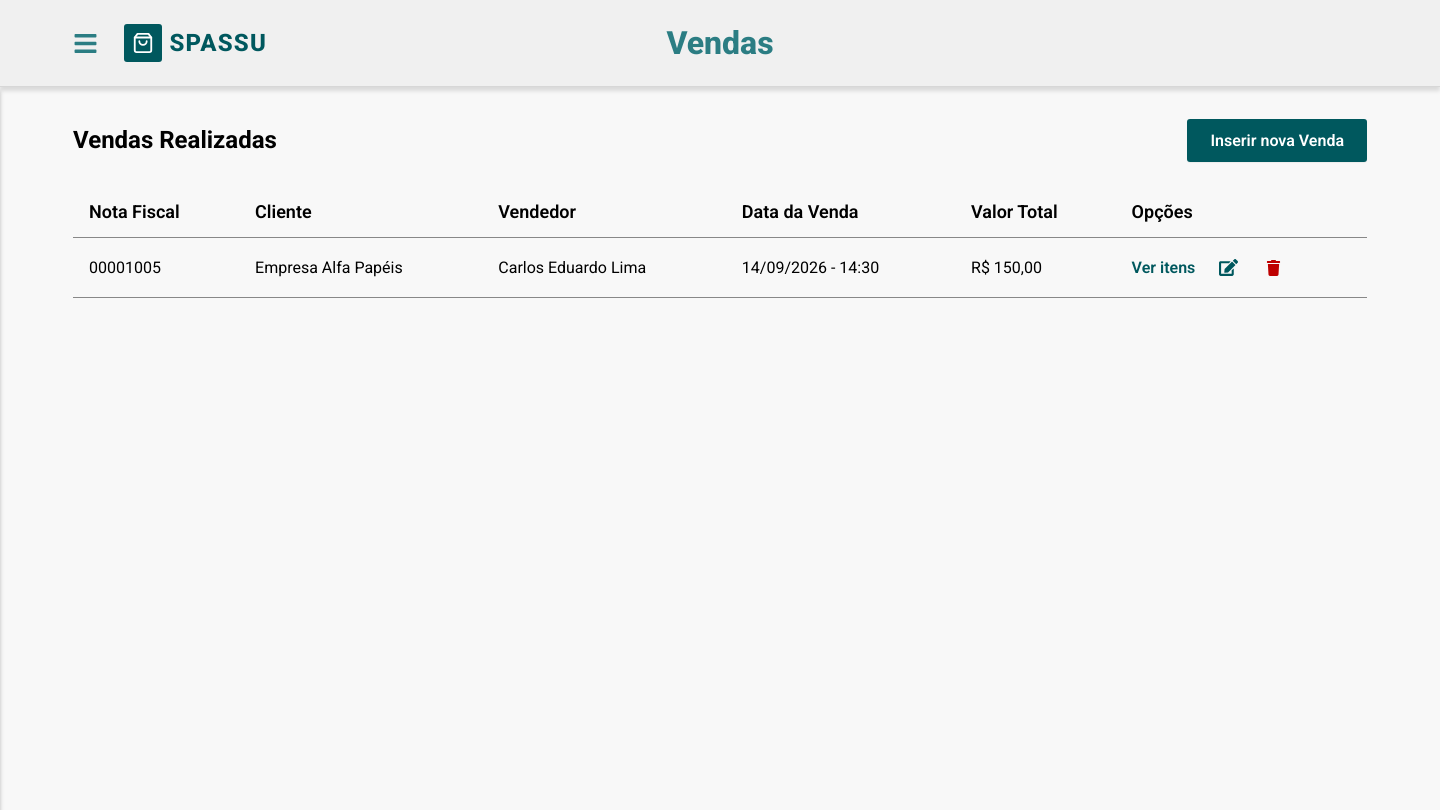
it: App Client-Side Routing › navega para a rota de edição ao clicar no ícone de editar e exibe o título dinâmico com o número da nota
Expected: the text "00001005" is shown, 73,238 -> 239,298
// Clica no botão de editar da linha
Click the button named "editar venda 00001005": coordinates (1229, 268) 1215,254 -> 1242,281
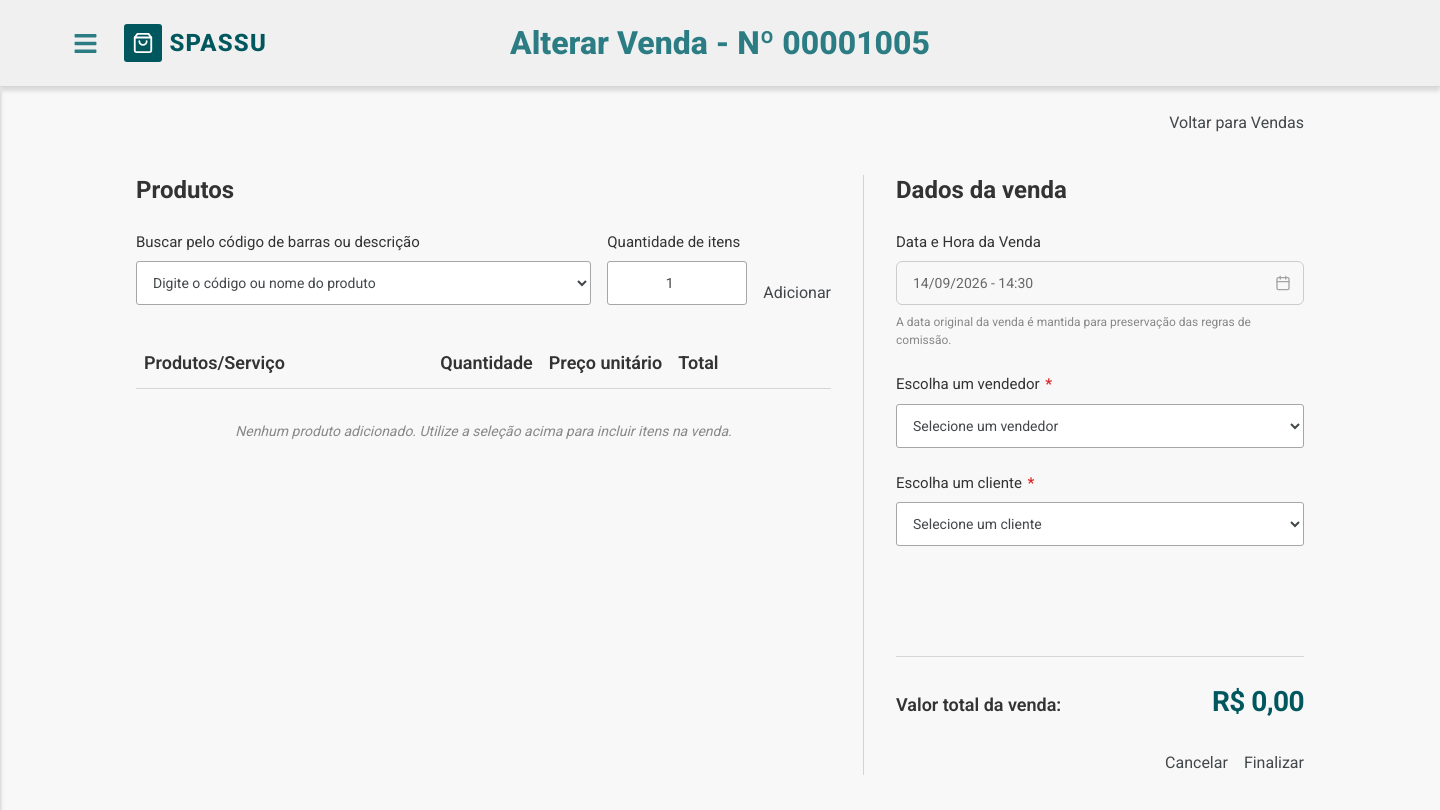
Result: the heading "Alterar Venda - Nº 00001005" is shown at 510,24 -> 930,62
